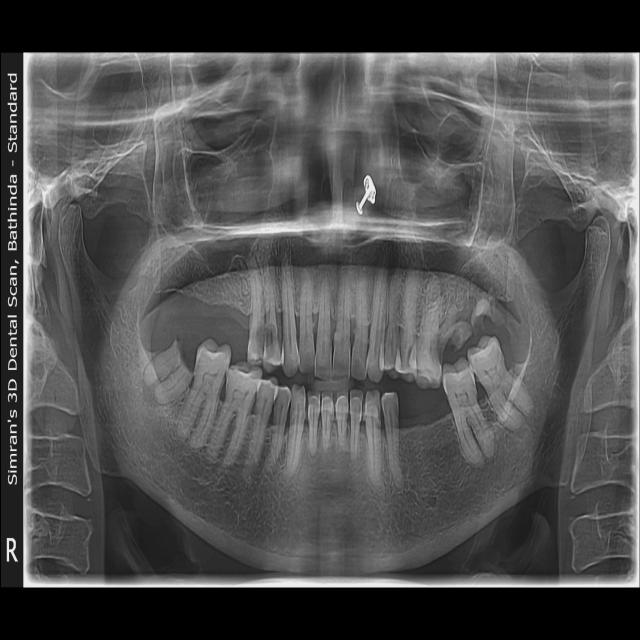Root Piece: (144, 337, 181, 388), (155, 362, 192, 404), (438, 320, 472, 359), (438, 303, 458, 335), (471, 297, 490, 327)
